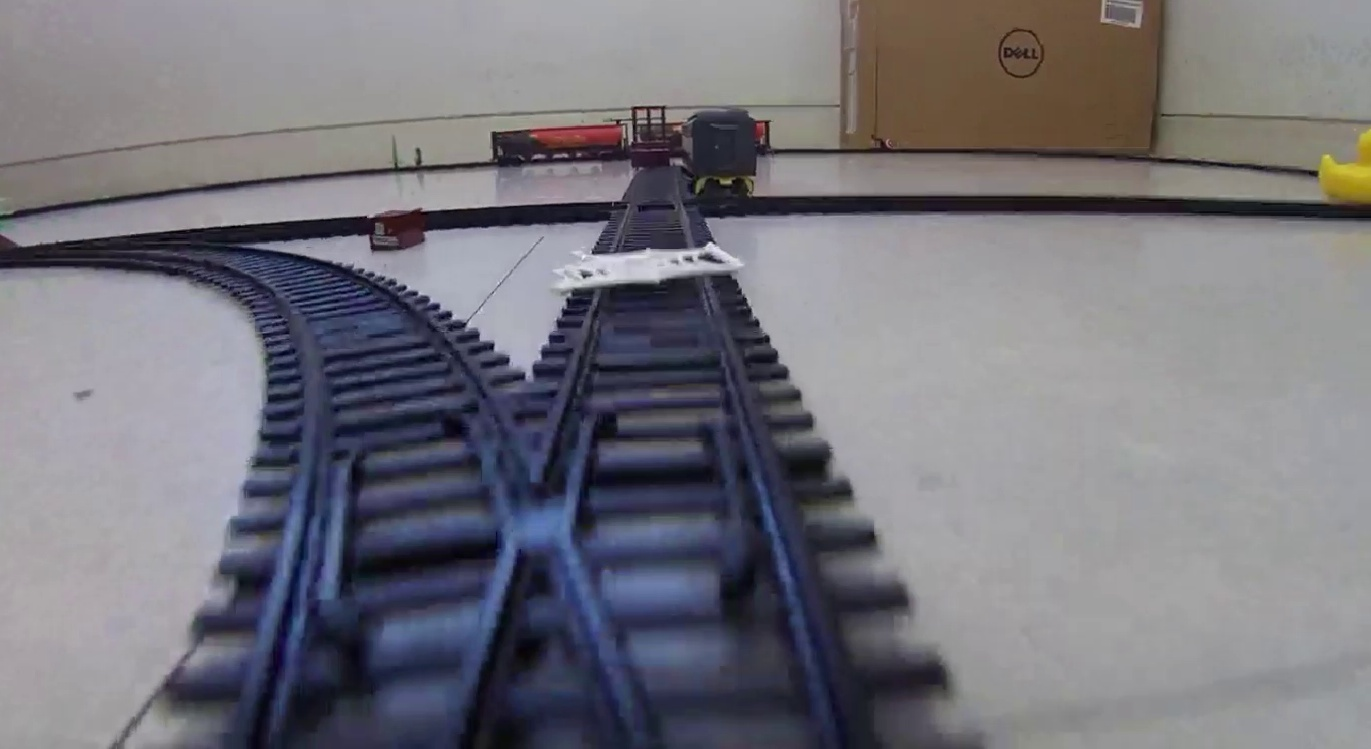box: (370, 209, 425, 249)
web: (555, 243, 748, 287)
